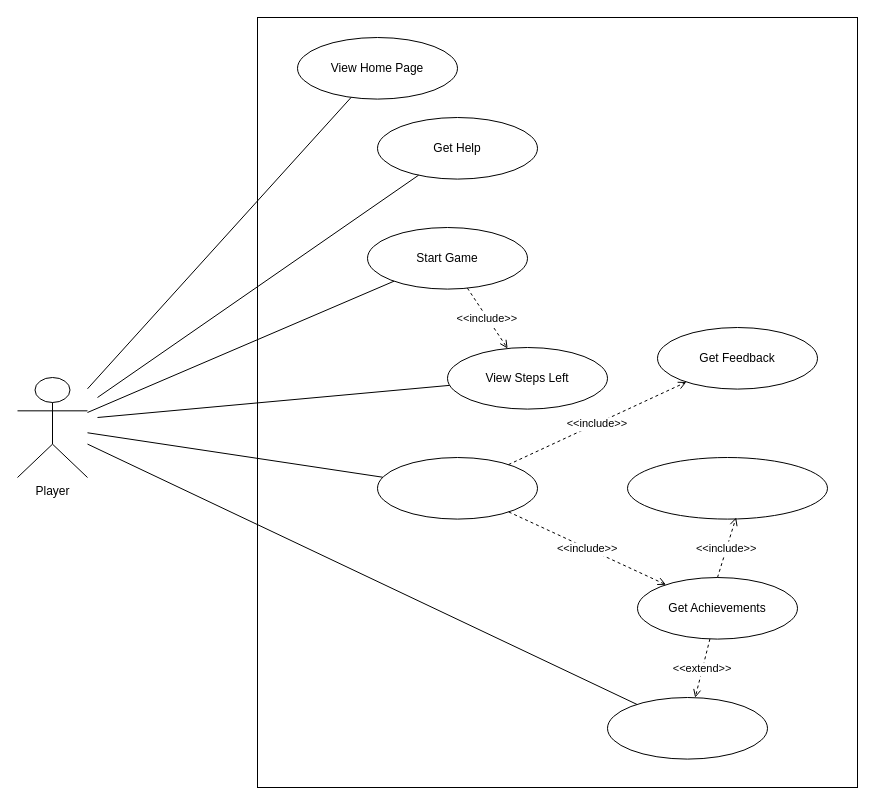
This 875x805 diagram has some shape labels left out. Here are the shapes that lost their labels. From the top down, the centre of each, then its label:
At point 457,487: "Run SQL Query".
At point 727,487: "Receive Email Certificate".
At point 687,727: "View Achievements".
